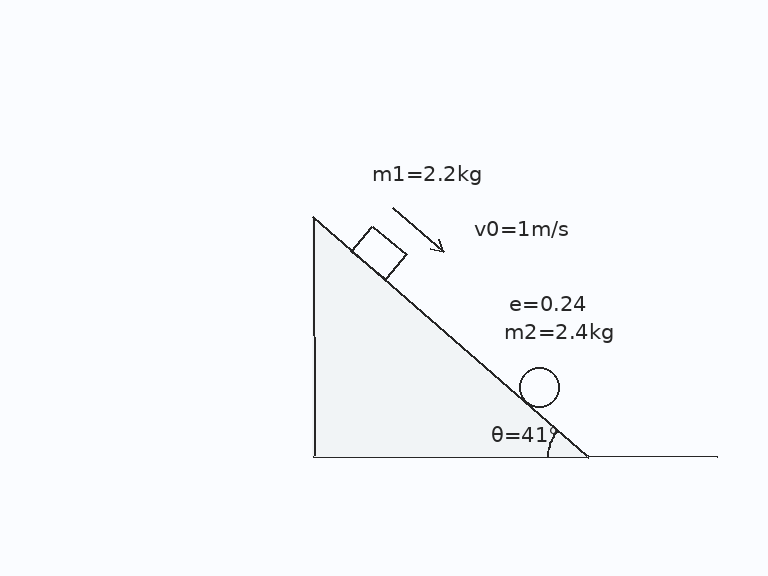ball: (517, 365, 561, 409)
block: (349, 224, 408, 281)
ramp: (311, 215, 590, 458)
